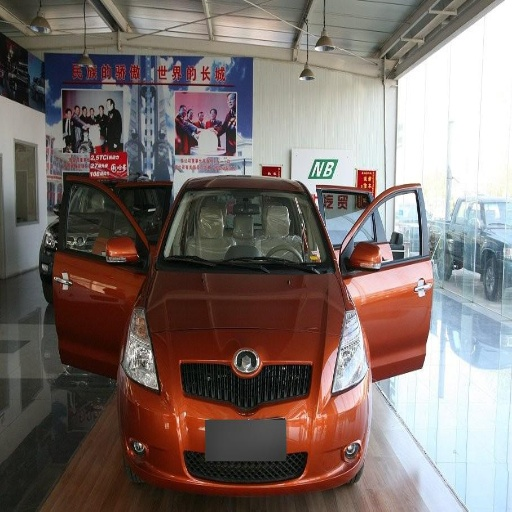front_bumper: (122, 331, 367, 495)
front_glass: (159, 183, 330, 271)
front_left_light: (327, 314, 367, 394)
front_right_light: (122, 309, 162, 392)
hood: (149, 270, 346, 362)
